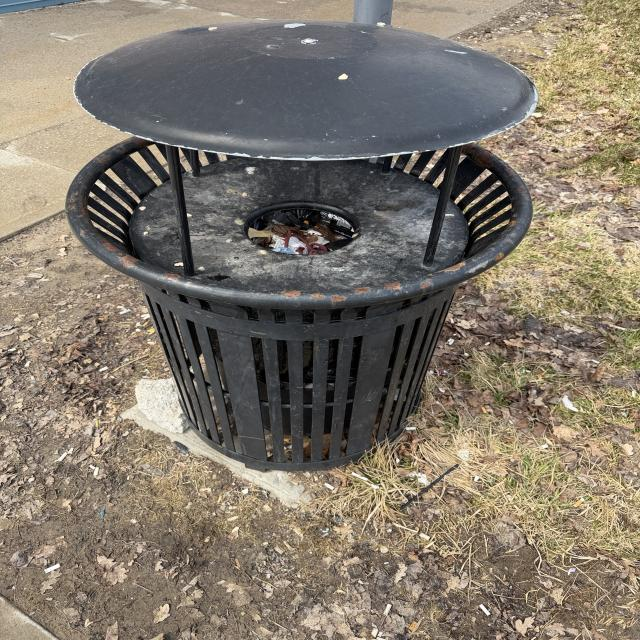Dustbin: (65, 19, 535, 474)
